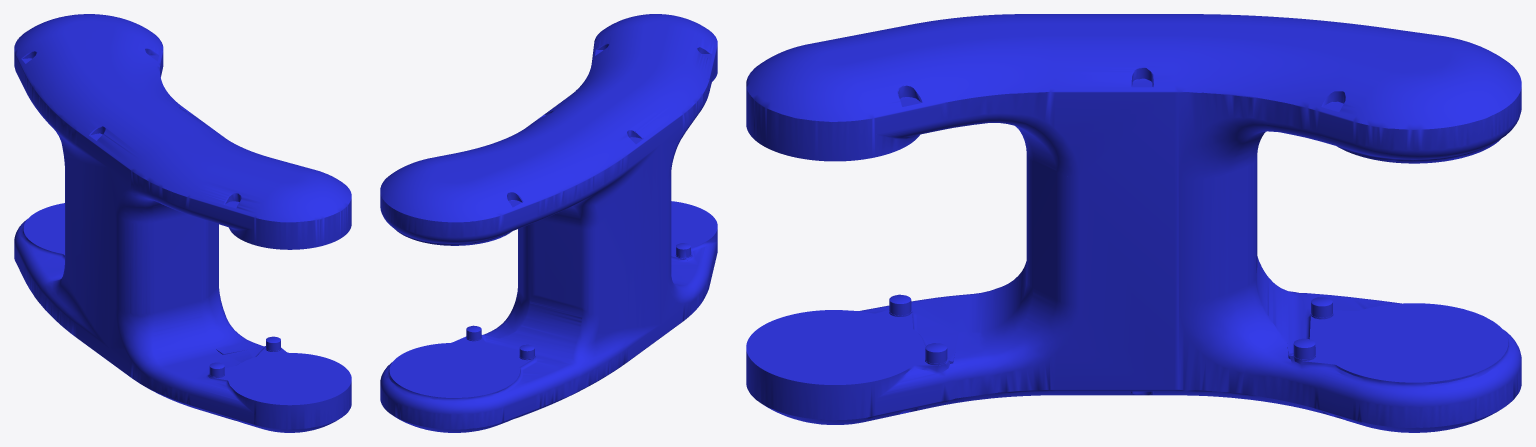
The picture shows the model from 3 angles, left to right: view 1: azimuth 30°, elevation 25°; view 2: azimuth 150°, elevation 25°; view 3: azimuth 270°, elevation 25°; orthographic projection. The views are drawn at different scales.
Visible parts, largest first — view 1: /Link2/Link2_001-mesh/0; view 2: /Link2/Link2_001-mesh/0; view 3: /Link2/Link2_001-mesh/0.
Part boxes in pixels (<box>): /Link2/Link2_001-mesh/0: <box>14,14,351,432</box>; /Link2/Link2_001-mesh/0: <box>380,14,717,432</box>; /Link2/Link2_001-mesh/0: <box>746,14,1521,432</box>.
Bounding box in the file's own units: 0.156 × 0.23 × 0.462.
